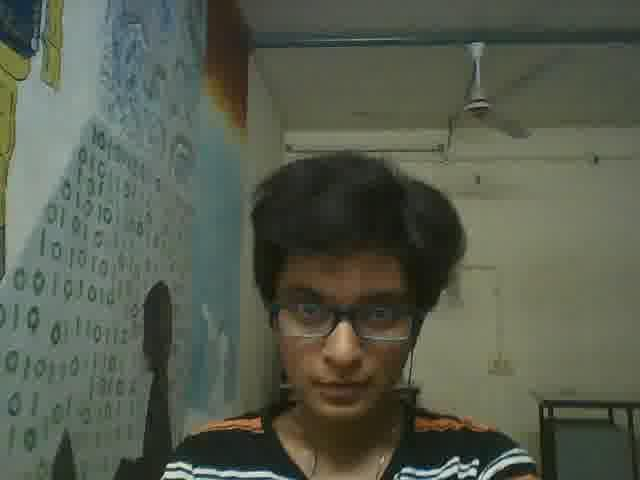bingung: (267, 243, 411, 422)
